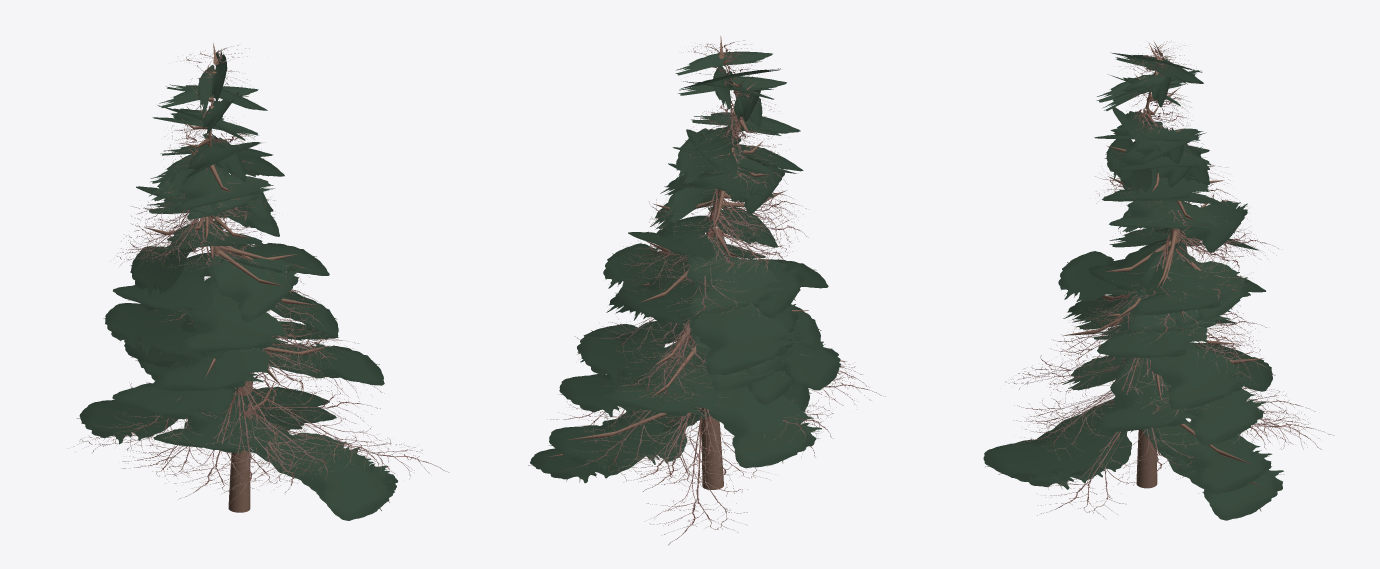
Rendered from Random Trees.fbx.
3 views of the same model, side by side, from view 1: azimuth 30°, elevation 25°; view 2: azimuth 150°, elevation 25°; view 3: azimuth 270°, elevation 25° (orthographic). The views are drawn at different scales.
Parts seen in each view (by area): view 1: Random Trees; view 2: Random Trees; view 3: Random Trees.
Boxes of the visible parts, x1,y1,x2,y2 form: Random Trees: (73,43,449,520); Random Trees: (528,36,885,545); Random Trees: (983,41,1333,520).
Size of the model in its own units: 1748 by 2046 by 1812.
